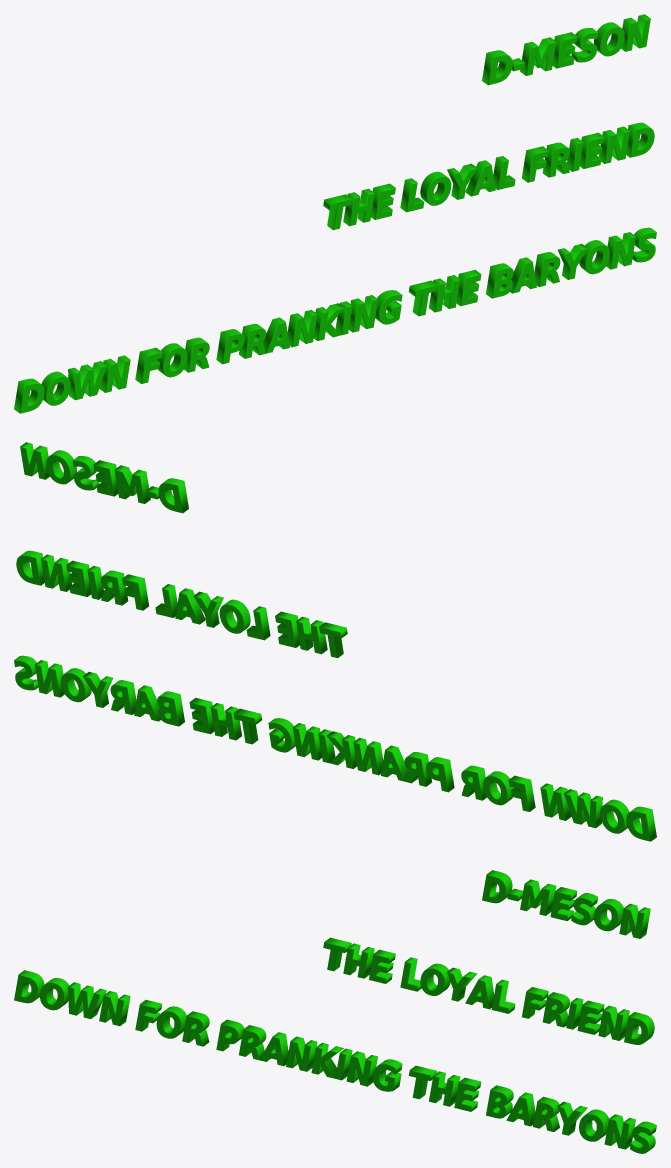
The model's file is DIntroductionLongCorrect.fbx.
3 renders of one model, top to bottom at view 1: azimuth 30°, elevation 25°; view 2: azimuth 150°, elevation 25°; view 3: azimuth 330°, elevation 25°, orthographic.
Parts seen in each view (by area): view 1: Dmeson_Intorduction_long; view 2: Dmeson_Intorduction_long; view 3: Dmeson_Intorduction_long.
Boxes of the visible parts, box(x1,y1,x2,y2) form: Dmeson_Intorduction_long: box(14, 14, 656, 413); Dmeson_Intorduction_long: box(14, 442, 656, 841); Dmeson_Intorduction_long: box(14, 870, 656, 1153).
Size of the model in its own units: 1245 by 452 by 22.
